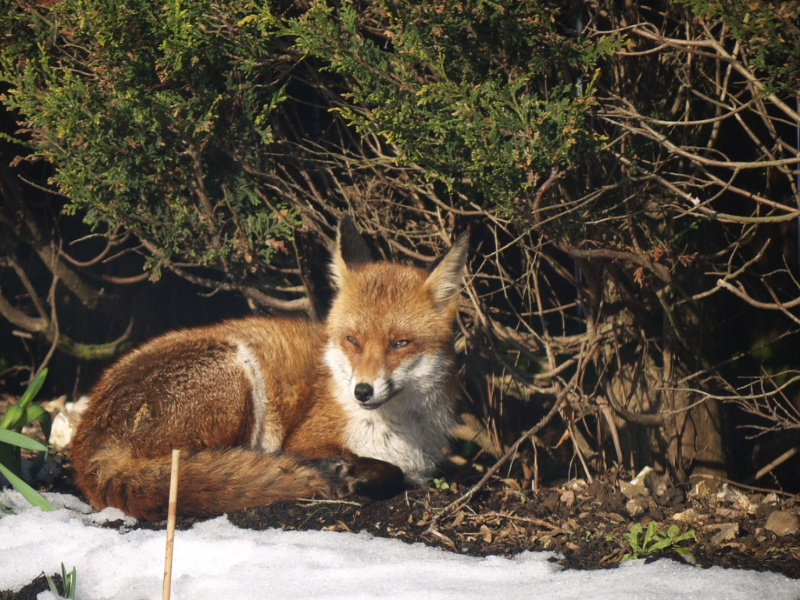fox: (67, 219, 482, 521)
